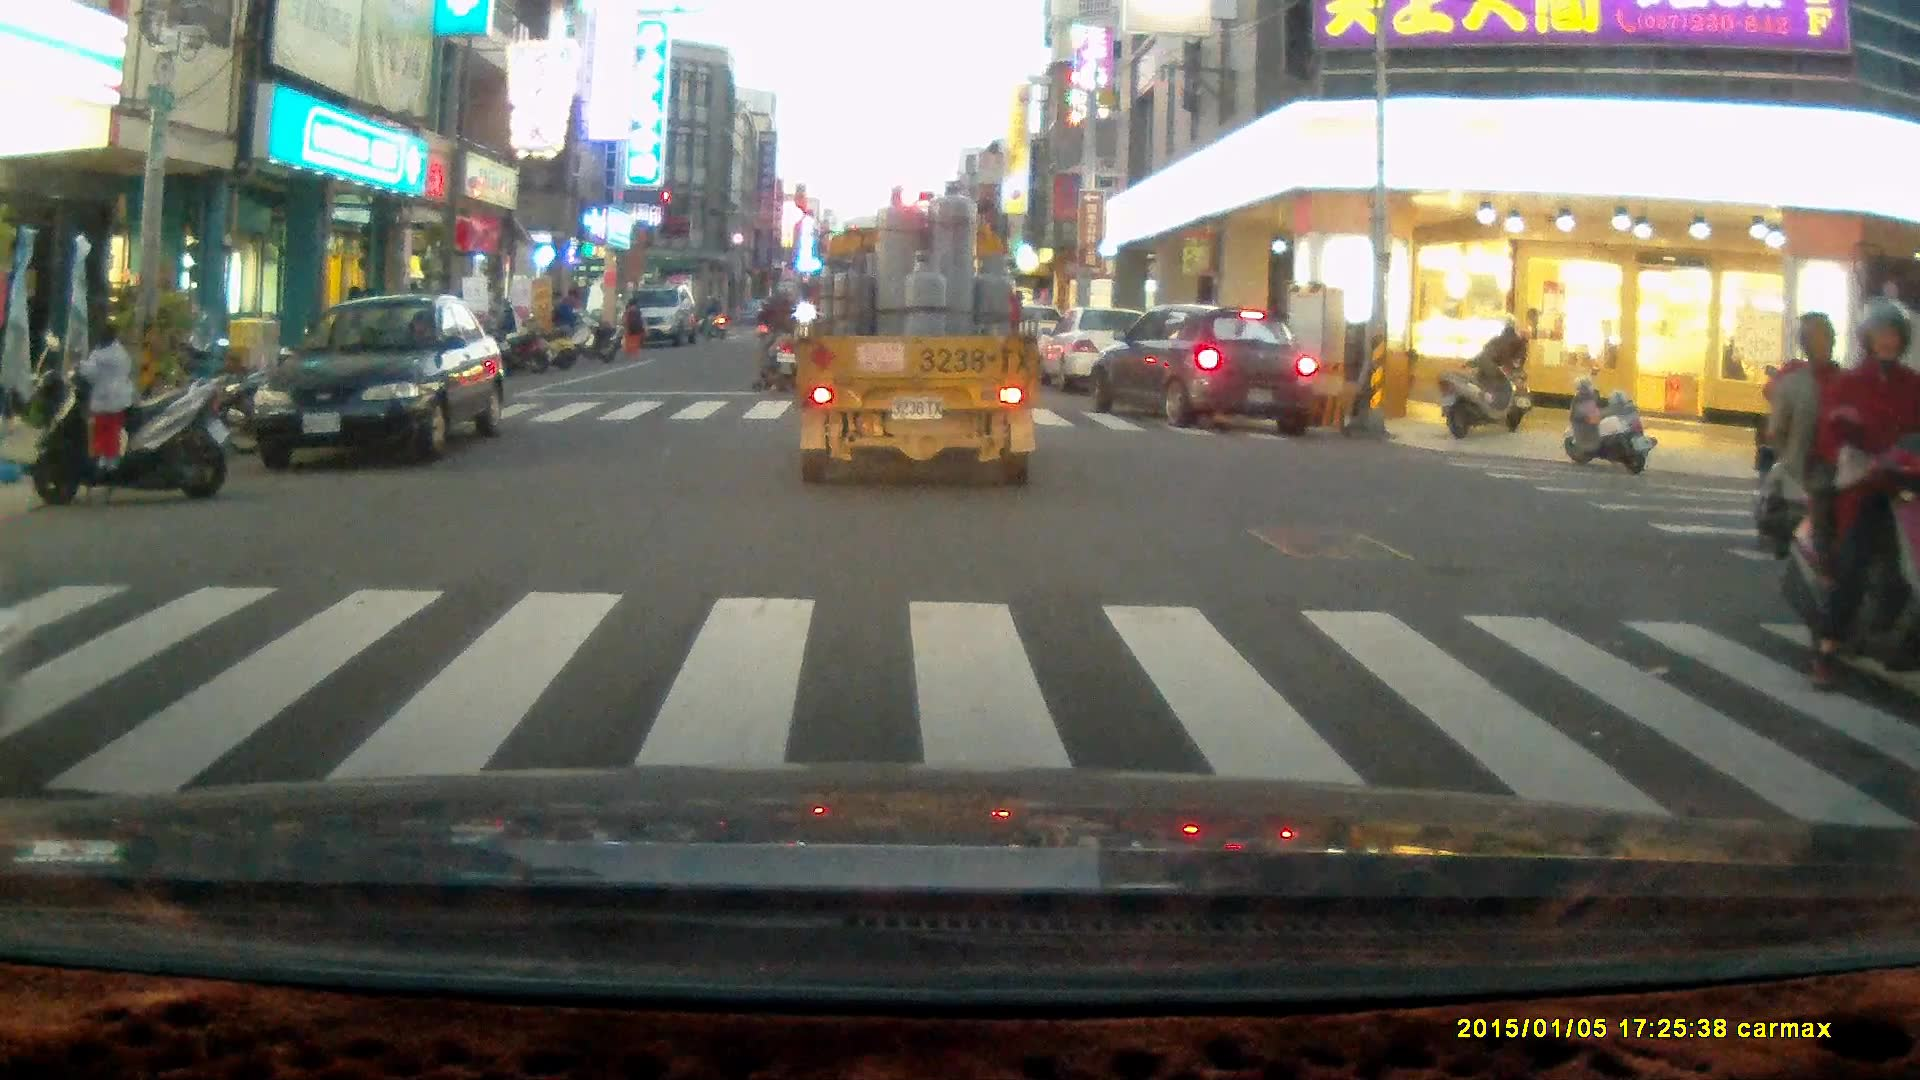pedestrian: (73, 319, 132, 470), (552, 285, 582, 354), (622, 297, 644, 357)
rider: (1770, 292, 1920, 701), (746, 266, 806, 393), (1476, 310, 1534, 431)
vehicle: (790, 180, 1041, 487), (254, 293, 505, 467), (1087, 307, 1316, 432), (1038, 307, 1171, 398), (618, 280, 695, 342)
